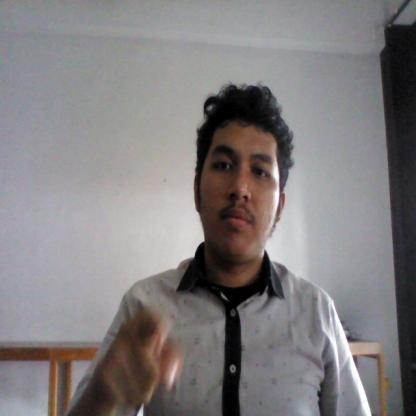Kamu: (90, 299, 196, 415)
